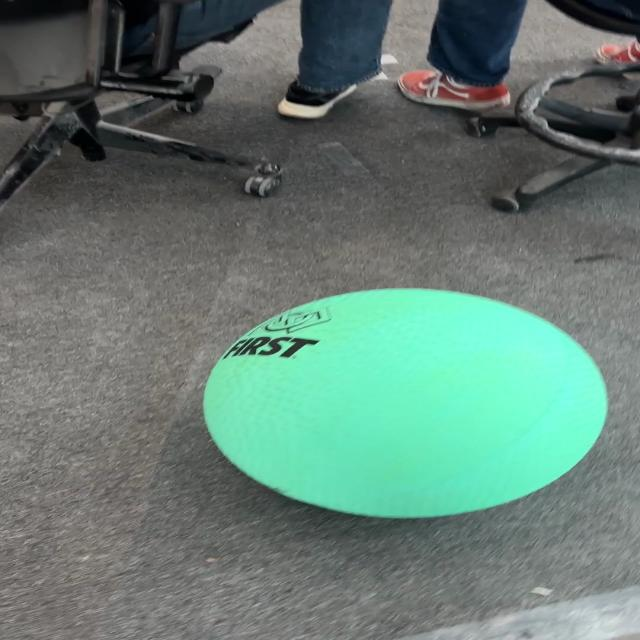Algae: (200, 286, 610, 520)
